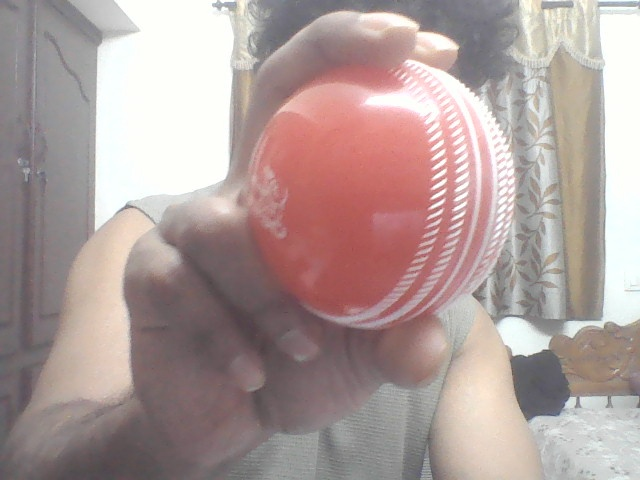cricket_ball: (245, 58, 520, 338)
